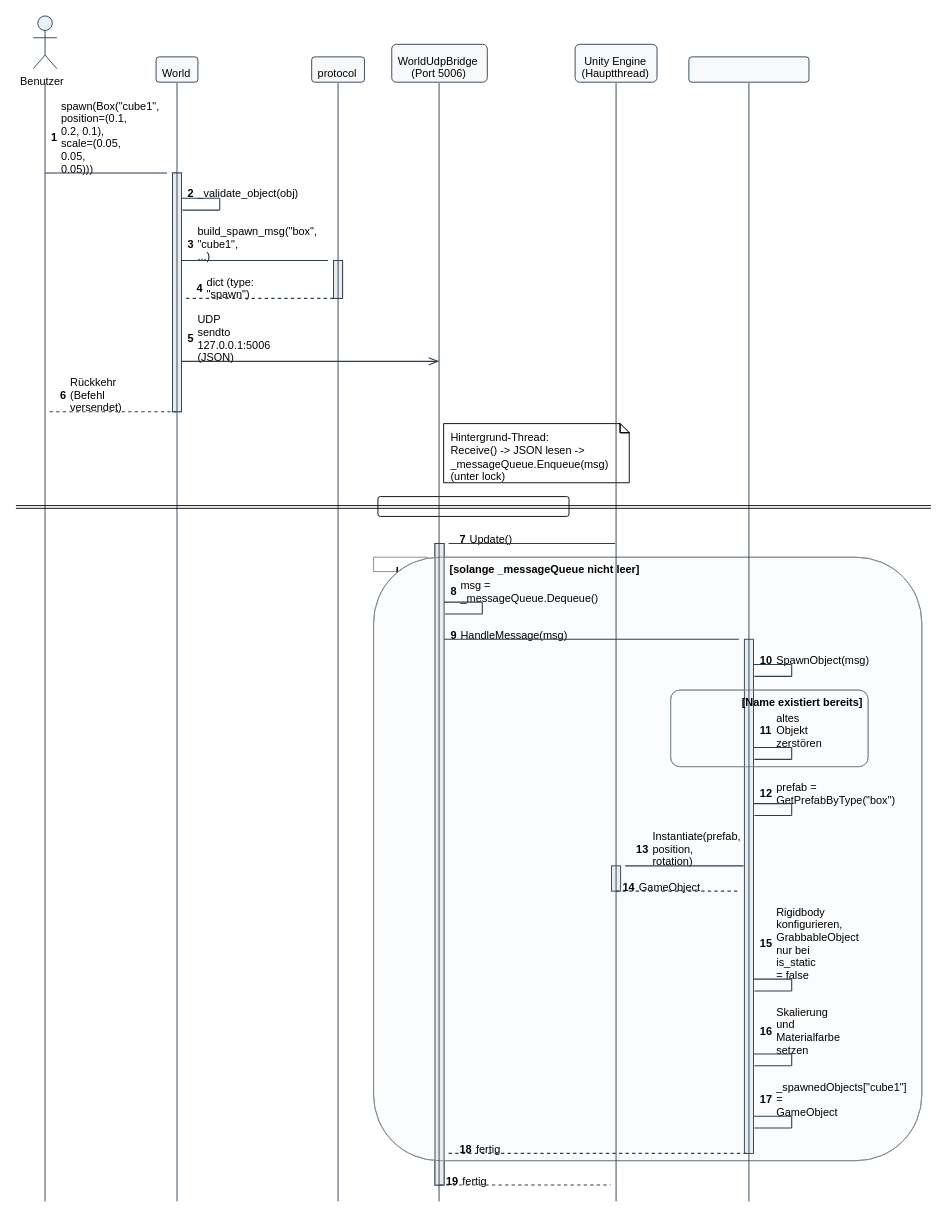
Some shapes in this 948 by 1218 pixel diagram are drawn without their labels. Here are the shapes that lost their labels. From the top down, the centre of each, then its label:
At (x=748, y=69): "WorldSpawnManager".
At (x=473, y=506): "Unity-Hauptthread (Update-Frame)".
